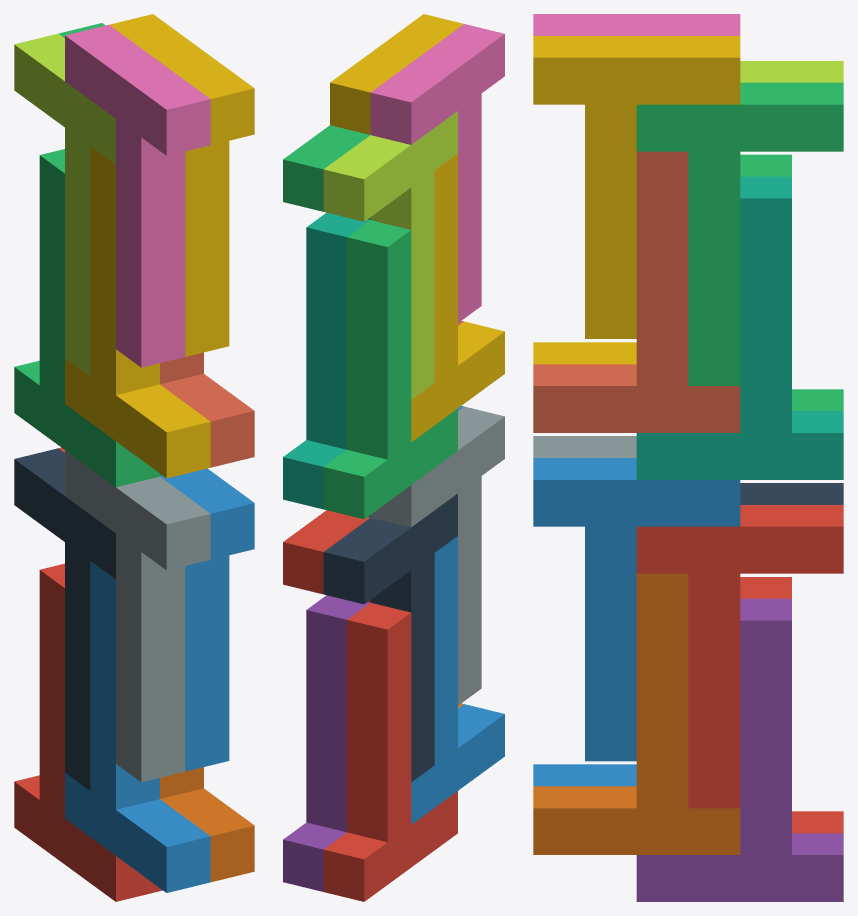
The model's file is tiling.obj.
The picture shows the model from 3 angles, left to right: view 1: azimuth 30°, elevation 25°; view 2: azimuth 150°, elevation 25°; view 3: azimuth 270°, elevation 25°; orthographic projection. The views are drawn at different scales.
Parts seen in each view (by area): view 1: copy_2_domain_4, copy_2_domain_2, copy_1_domain_4, copy_1_domain_2, copy_2_domain_8, copy_2_domain_6, copy_1_domain_1, copy_1_domain_3, copy_2_domain_3, copy_2_domain_1, copy_1_domain_6, copy_1_domain_8; view 2: copy_1_domain_1, copy_1_domain_3, copy_2_domain_4, copy_2_domain_3, copy_2_domain_1, copy_1_domain_7, copy_1_domain_5, copy_2_domain_2, copy_1_domain_2, copy_1_domain_4, copy_2_domain_8, copy_2_domain_7 (+1 smaller); view 3: copy_2_domain_8, copy_2_domain_7, copy_2_domain_5, copy_1_domain_6, copy_1_domain_8, copy_1_domain_5, copy_1_domain_7, copy_2_domain_6, copy_2_domain_4, copy_1_domain_2, copy_1_domain_4, copy_1_domain_1 (+4 smaller).
Part boxes in pixels (bbox=[...]): copy_2_domain_4: bbox=[65, 25, 210, 367]; copy_2_domain_2: bbox=[65, 450, 210, 782]; copy_1_domain_4: bbox=[65, 146, 210, 478]; copy_1_domain_2: bbox=[65, 561, 210, 892]; copy_2_domain_8: bbox=[109, 14, 254, 356]; copy_2_domain_6: bbox=[160, 468, 254, 771]; copy_1_domain_1: bbox=[14, 563, 159, 901]; copy_1_domain_3: bbox=[14, 149, 159, 487]; copy_2_domain_3: bbox=[14, 33, 115, 375]; copy_2_domain_1: bbox=[14, 448, 115, 790]; copy_1_domain_6: bbox=[160, 767, 254, 882]; copy_1_domain_8: bbox=[160, 352, 254, 467]; copy_1_domain_1: bbox=[323, 602, 457, 901]; copy_1_domain_3: bbox=[323, 220, 457, 519]; copy_2_domain_4: bbox=[370, 24, 504, 322]; copy_2_domain_3: bbox=[323, 111, 457, 399]; copy_2_domain_1: bbox=[323, 493, 457, 781]; copy_1_domain_7: bbox=[283, 212, 369, 509]; copy_1_domain_5: bbox=[283, 595, 369, 891]; copy_2_domain_2: bbox=[370, 406, 504, 705]; copy_1_domain_2: bbox=[411, 536, 504, 824]; copy_1_domain_4: bbox=[411, 153, 504, 441]; copy_2_domain_8: bbox=[330, 14, 463, 134]; copy_2_domain_7: bbox=[283, 125, 370, 219]; copy_2_domain_8: bbox=[533, 36, 740, 338]; copy_2_domain_7: bbox=[636, 82, 843, 385]; copy_2_domain_5: bbox=[636, 505, 843, 808]; copy_1_domain_6: bbox=[533, 573, 740, 854]; copy_1_domain_8: bbox=[533, 151, 740, 432]; copy_1_domain_5: bbox=[636, 598, 843, 901]; copy_1_domain_7: bbox=[636, 176, 843, 479]; copy_2_domain_6: bbox=[533, 458, 740, 761]; copy_2_domain_4: bbox=[533, 14, 740, 35]; copy_1_domain_2: bbox=[533, 764, 636, 786]; copy_1_domain_4: bbox=[533, 342, 636, 364]; copy_1_domain_1: bbox=[740, 577, 843, 833].
Size of the model in its own units: 2 by 18 by 6.
